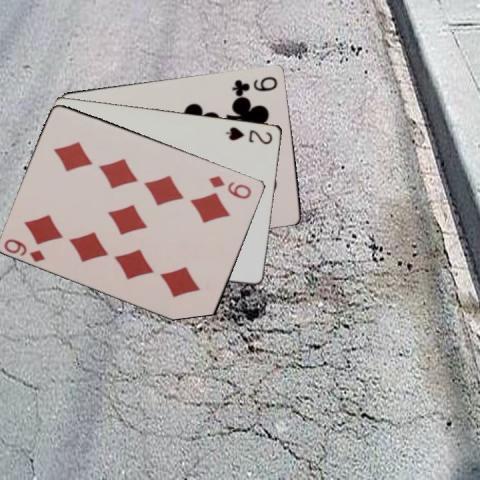2s: (223, 124, 274, 146)
9c: (229, 73, 280, 94)
9d: (206, 172, 253, 201), (1, 236, 48, 264)
